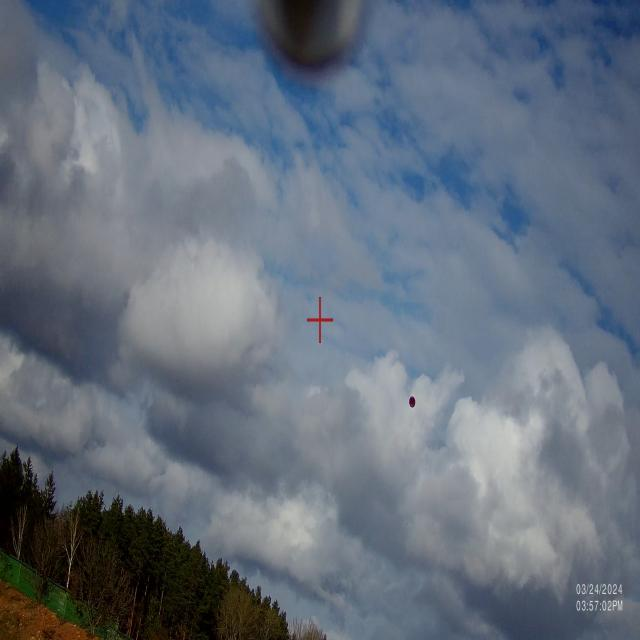entire: (407, 389, 421, 411)
